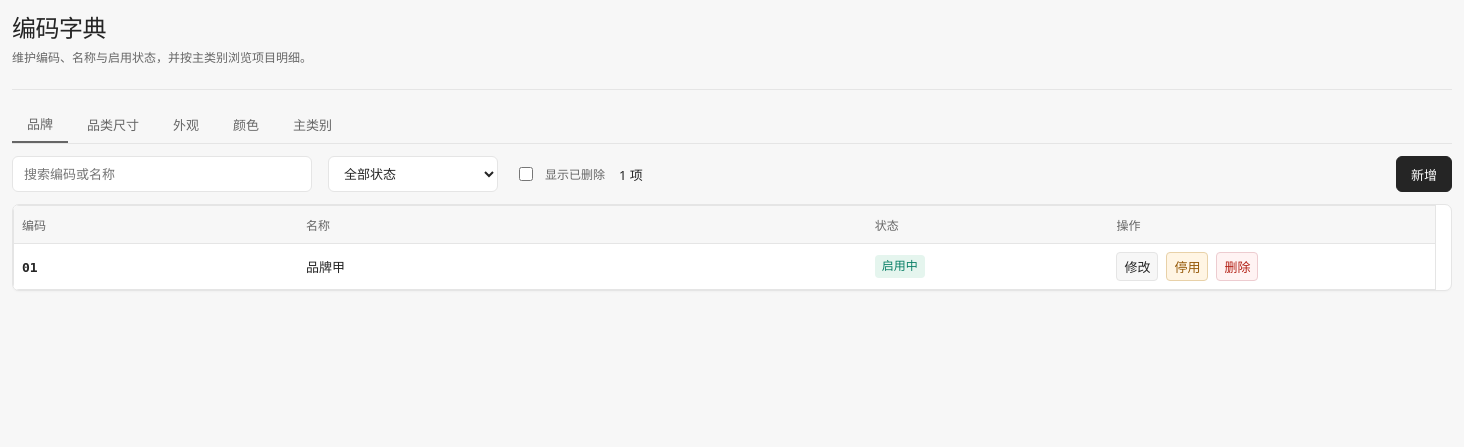
it: dictionary real-page density › preserves deleted identity distinctions without claiming a reference preflight
The image size is (1464, 447).
Click the button with aria-label "删除 品牌甲": (1238, 266) [1216,252,1258,281]
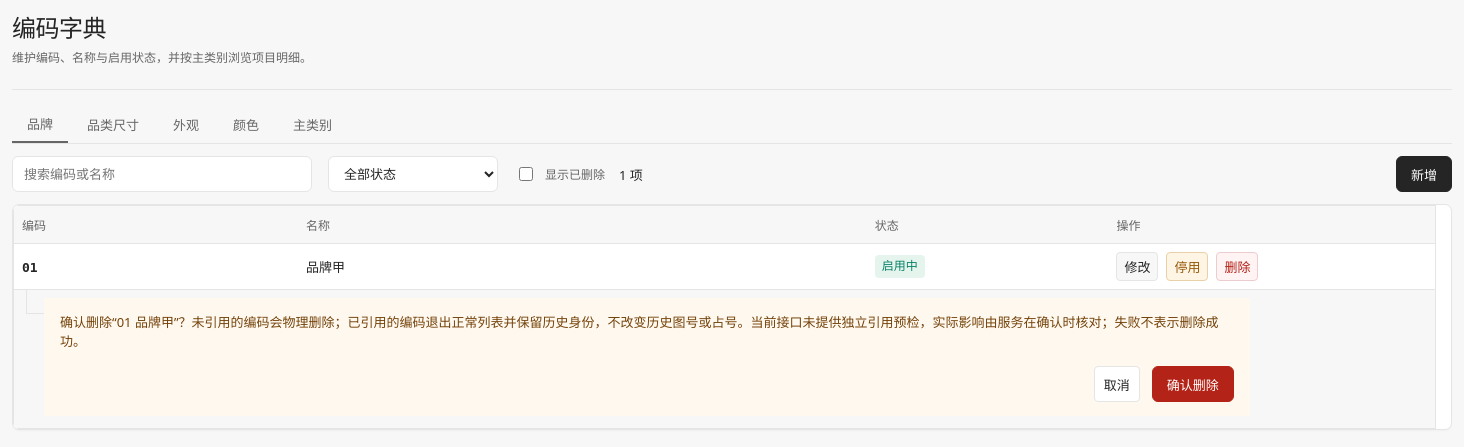
Result: the message shows "未引用的编码会物理删除" at [60,313,1219,350]
Result: the message shows "已引用的编码退出正常列表并保留历史身份" at [60,313,1219,350]
Result: the message shows "未提供独立引用预检" at [60,313,1219,350]
